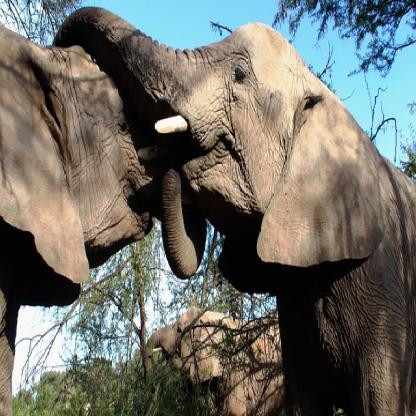elephant: (69, 1, 416, 407), (1, 22, 149, 408)
